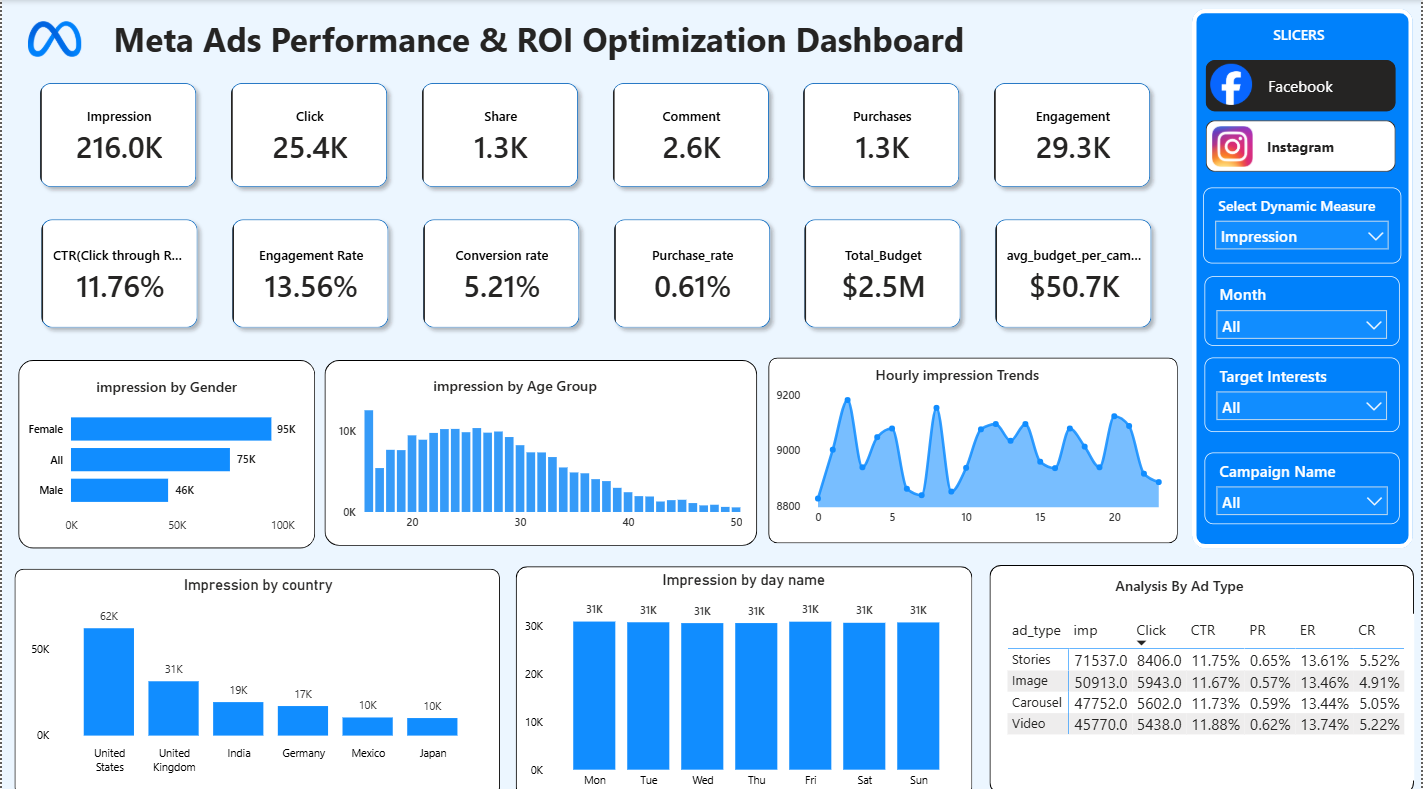

What the dashboard file says about the page in this screenshot:
{"tool":"powerbi","page":{"name":"Facebook","canvas":[1600,900],"ordinal":0},"visuals":[{"type":"shape","box":[1112.8,637.4,478.4,258.3],"z":0},{"type":"shape","box":[863.6,402.6,461.6,209.4],"z":1000},{"type":"shape","box":[578.7,637.7,514.8,262.3],"z":2000},{"type":"textbox","box":[100.9,13.8,1007.3,67.3],"z":3000},{"type":"image","box":[13.8,24.5,90.2,39.7],"z":4000},{"type":"shape","box":[1341.3,9.2,249.2,608.4],"z":5000},{"type":"cardVisual","fields":{"Data":["ad_events.impression","ad_events.Click","ad_events.Share","ad_events.Comment","ad_events.Purchases","ad_events.Engagement"]},"box":[13.8,64.2,1313,175.8],"z":6000},{"type":"cardVisual","fields":{"Data":["ad_events.CTR(Click through Rates)","ad_events.Engagement Rate","ad_events.Conversion rate","ad_events.Purchase_rate","ad_events.Total_Budget","ad_events.avg_budget_per_campaings"]},"box":[15.3,218.6,1311.5,180.4],"z":7000},{"type":"slicer","fields":{"Values":["Select Dynamic Measure.Select Dynamic Measure"]},"box":[1354.1,211.5,223,85.2],"z":8000},{"type":"shape","box":[18.3,405.1,334.8,212.5],"z":9000},{"type":"barChart","fields":{"Y":["ad_events.Impression"],"Category":["ads.target_gender"]},"box":[24,444.3,325.9,166.4],"z":10000},{"type":"cardVisual","fields":{"Data":["ad_events.Gender title"]},"box":[67.3,403.5,236.9,61.1],"z":11000},{"type":"shape","box":[363.8,405.1,487.6,209.4],"z":12000},{"type":"columnChart","fields":{"Y":["ad_events.Impression"],"Category":["Users.user_age"]},"box":[374.5,426.5,464.7,180.4],"z":13000},{"type":"cardVisual","fields":{"Data":["ad_events.Age title"]},"box":[450.9,398.9,255.3,67.3],"z":14000},{"type":"shape","box":[13.8,640.5,547.2,256.8],"z":15000},{"type":"columnChart","fields":{"Y":["ad_events.Impression"],"Category":["Users.country"]},"box":[27.5,649.6,521.2,230.8],"z":16000},{"type":"slicer","fields":{"Values":["Calender Table.Month"]},"box":[1355.7,311.5,219.7,78.7],"z":17000},{"type":"clusteredColumnChart","fields":{"Y":["ad_events.Impression"],"Category":["Calender Table.day name"]},"box":[584.9,643.2,502.6,253.9],"z":18000},{"type":"areaChart","fields":{"Y":["ad_events.Impression"],"Category":["ad_events.Event Hour"]},"box":[867.9,430.5,451.1,169.8],"z":19000},{"type":"cardVisual","fields":{"Data":["ad_events.Hourly title"]},"box":[930.9,388.2,292,65.7],"z":20000},{"type":"pivotTable","fields":{"Rows":["ads.ad_type"],"Values":["ad_events.impression","ad_events.Click","ad_events.CTR(Click through Rates)","ad_events.Purchase_rate","ad_events.Engagement Rate","ad_events.Conversion rate"]},"box":[1128.1,692.4,463.1,188],"z":21000},{"type":"slicer","fields":{"Values":["ads.target_interests"]},"box":[1355.7,403.3,219.7,83.6],"z":22000},{"type":"slicer","fields":{"Values":["Campaings.name"]},"box":[1355.8,510.5,220.1,81],"z":23000},{"type":"pageNavigator","box":[1356.7,67.9,214.8,126.2],"z":24000},{"type":"image","box":[1362.7,142.5,48.9,45.6],"z":25000},{"type":"image","box":[1360.5,72.5,48.9,46.7],"z":26000},{"type":"textbox","box":[1238.1,643.5,177.3,48.9],"z":27000},{"type":"textbox","box":[1386.9,23,150.8,41],"z":28000}]}

Visuals, with their boxes in screenshot pixels (x1, y1, x2, y2), scaled from the page's 1600x900 canvas onto the 1423x789 screenshot:
shape: <bbox>990, 559, 1415, 785</bbox>
shape: <bbox>768, 353, 1179, 537</bbox>
shape: <bbox>515, 559, 973, 788</bbox>
textbox: <bbox>90, 12, 986, 71</bbox>
image: <bbox>12, 21, 92, 56</bbox>
shape: <bbox>1193, 8, 1415, 541</bbox>
cardVisual - ad_events.impression x ad_events.Click: <bbox>12, 56, 1180, 210</bbox>
cardVisual - ad_events.CTR(Click through Rates) x ad_events.Engagement Rate: <bbox>14, 192, 1180, 350</bbox>
slicer - Select Dynamic Measure.Select Dynamic Measure: <bbox>1204, 185, 1403, 260</bbox>
shape: <bbox>16, 355, 314, 541</bbox>
barChart - ad_events.Impression x ads.target_gender: <bbox>21, 390, 311, 535</bbox>
cardVisual - ad_events.Gender title: <bbox>60, 354, 271, 407</bbox>
shape: <bbox>324, 355, 757, 539</bbox>
columnChart - ad_events.Impression x Users.user_age: <bbox>333, 374, 746, 532</bbox>
cardVisual - ad_events.Age title: <bbox>401, 350, 628, 409</bbox>
shape: <bbox>12, 562, 499, 787</bbox>
columnChart - ad_events.Impression x Users.country: <bbox>24, 569, 488, 772</bbox>
slicer - Calender Table.Month: <bbox>1206, 273, 1401, 342</bbox>
clusteredColumnChart - ad_events.Impression x Calender Table.day name: <bbox>520, 564, 967, 786</bbox>
areaChart - ad_events.Impression x ad_events.Event Hour: <bbox>772, 377, 1173, 526</bbox>
cardVisual - ad_events.Hourly title: <bbox>828, 340, 1088, 398</bbox>
pivotTable - ads.ad_type x ad_events.impression: <bbox>1003, 607, 1415, 772</bbox>
slicer - ads.target_interests: <bbox>1206, 354, 1401, 427</bbox>
slicer - Campaings.name: <bbox>1206, 448, 1402, 519</bbox>
pageNavigator: <bbox>1207, 60, 1398, 170</bbox>
image: <bbox>1212, 125, 1255, 165</bbox>
image: <bbox>1210, 64, 1253, 104</bbox>
textbox: <bbox>1101, 564, 1259, 607</bbox>
textbox: <bbox>1233, 20, 1368, 56</bbox>
